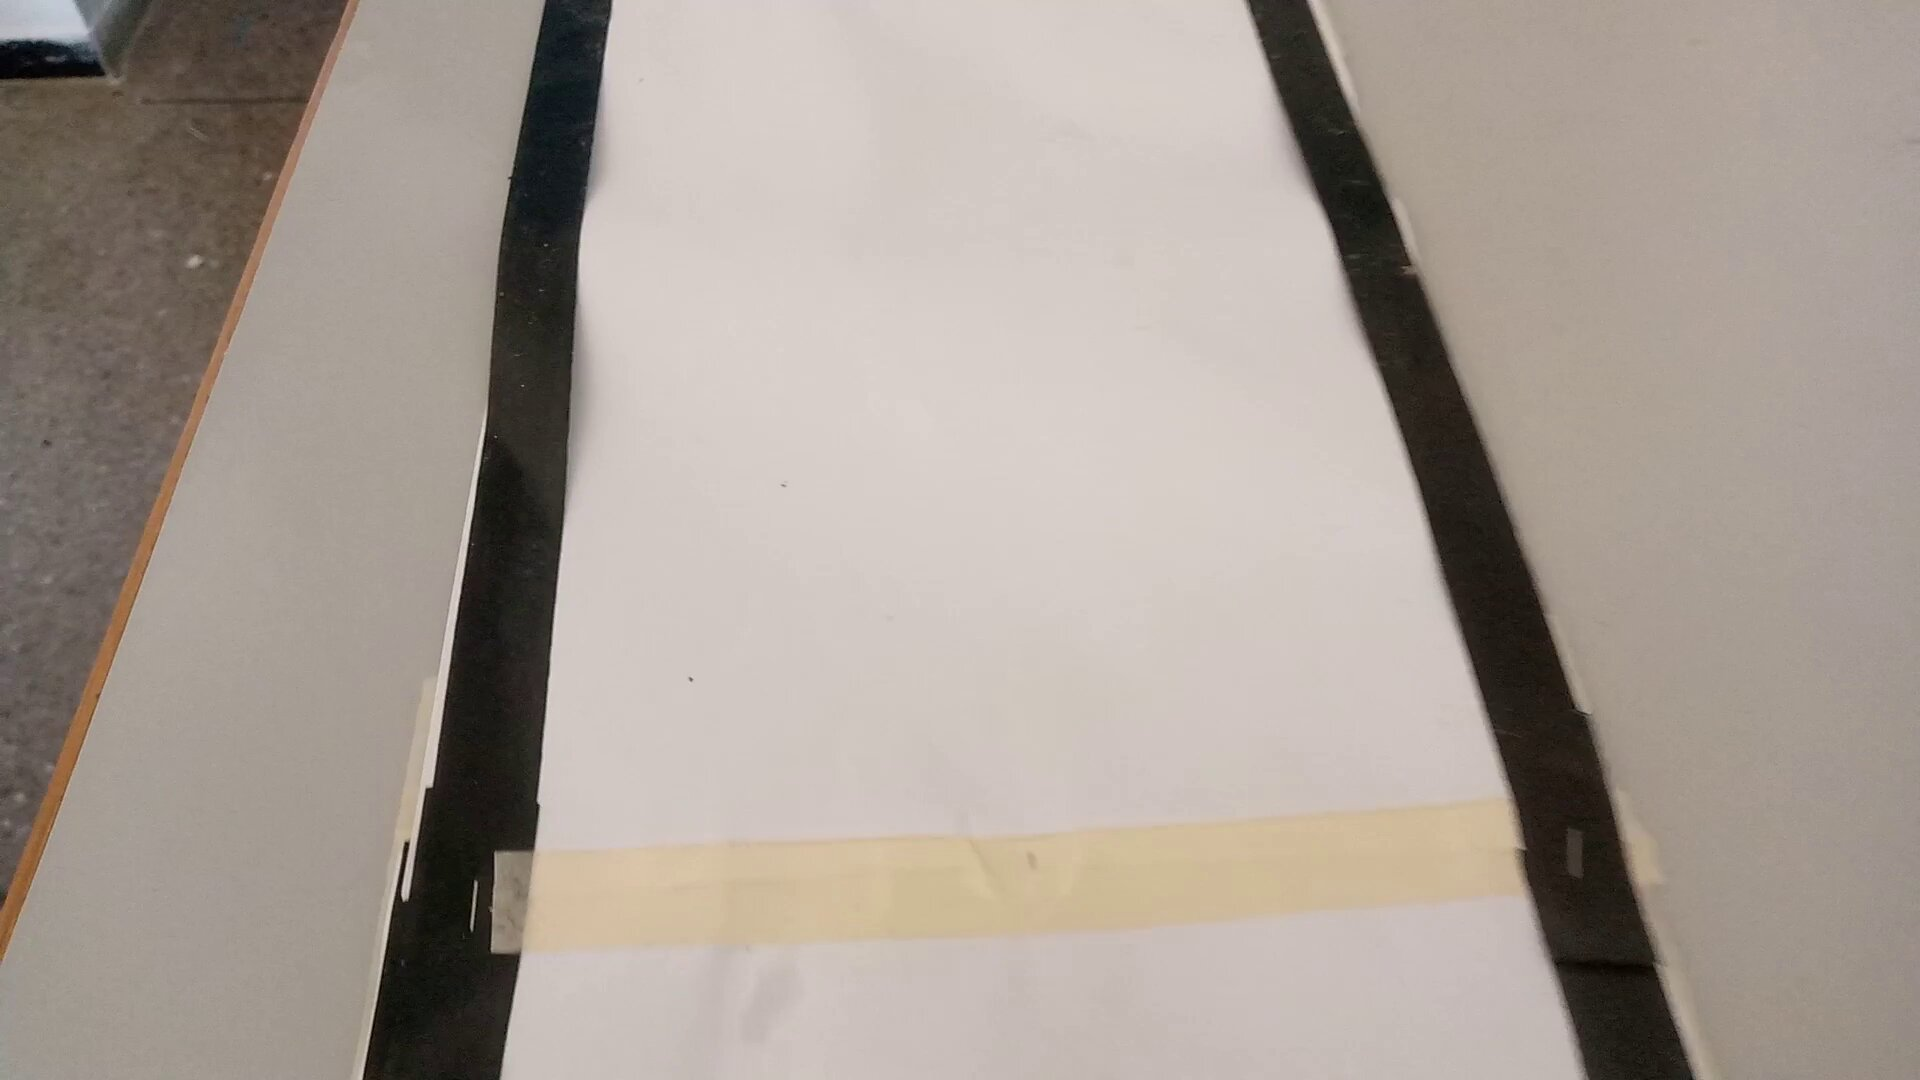forward: (396, 501, 1613, 857), (512, 32, 1455, 311)
